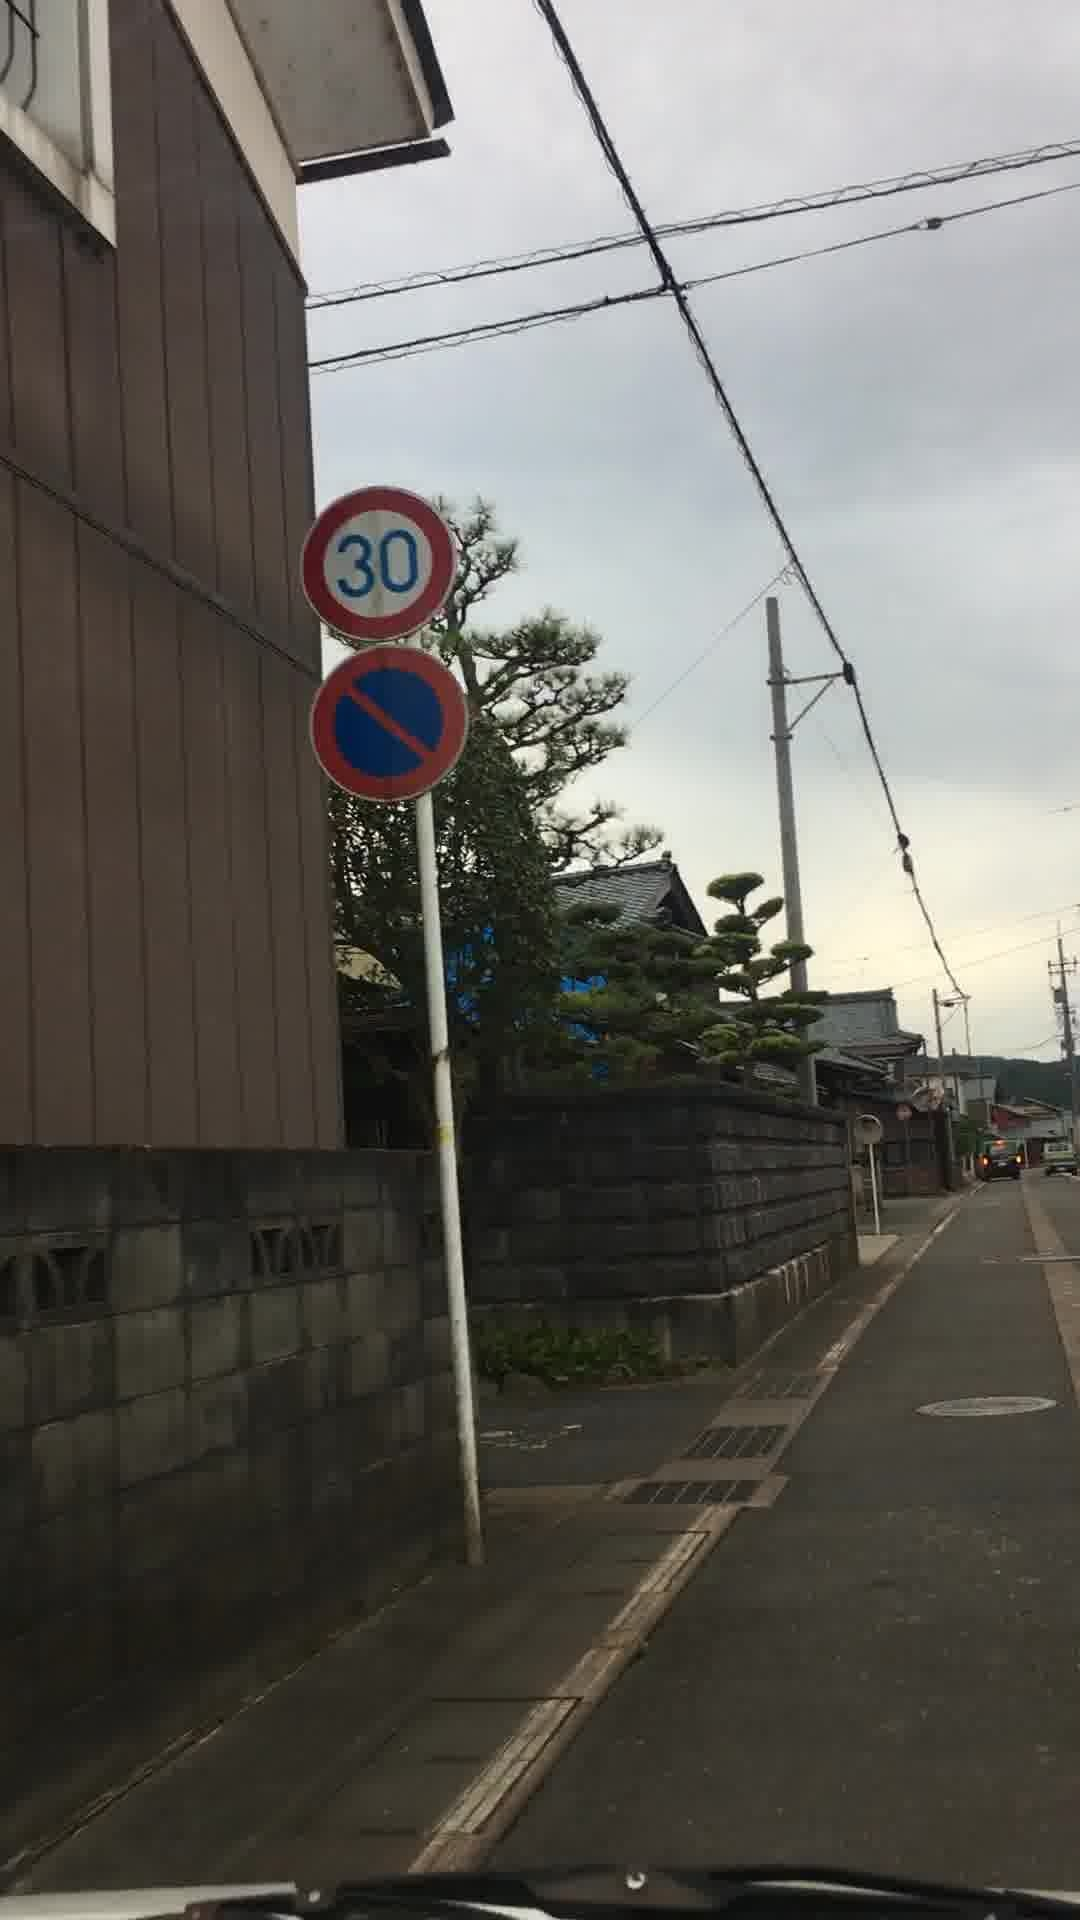Prohibition_sign: (260, 647, 516, 806)
Speed_sign: (295, 491, 468, 636)
